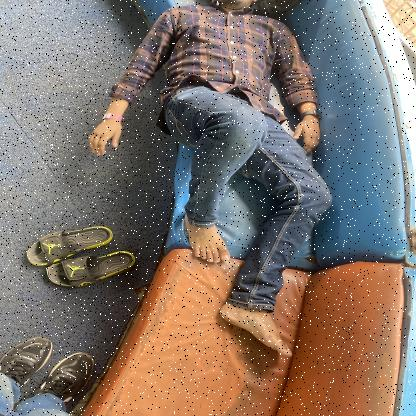hand: (54, 74, 154, 161), (280, 74, 336, 152)
leg: (194, 279, 309, 364), (150, 188, 238, 270)
